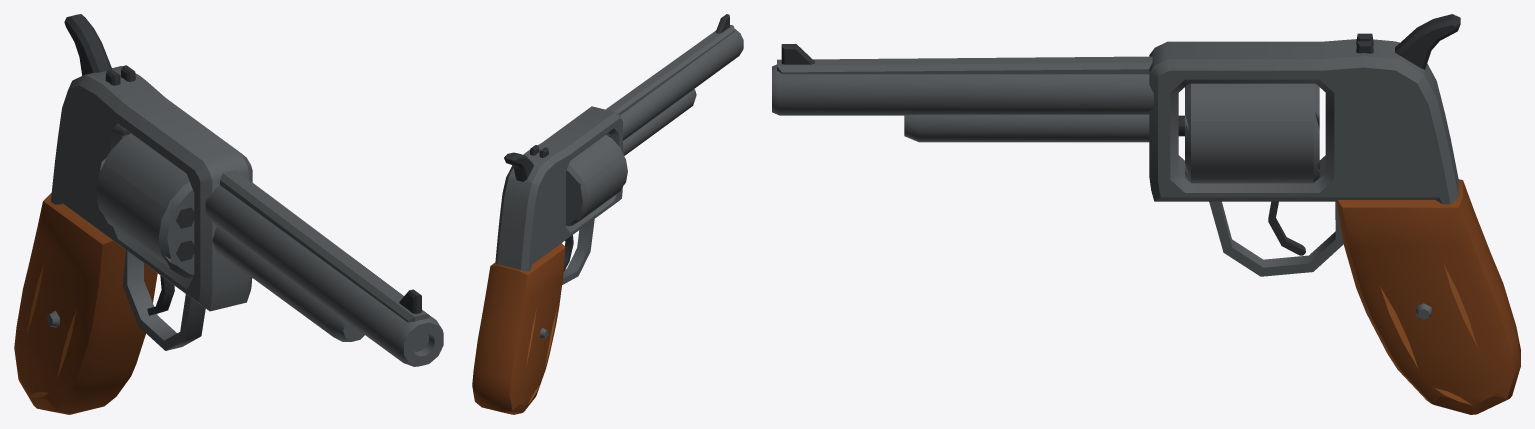
File: revolver.glb
3 renders of one model, left to right at view 1: azimuth 30°, elevation 25°; view 2: azimuth 150°, elevation 25°; view 3: azimuth 270°, elevation 25°, orthographic. The views are drawn at different scales.
Visible parts, largest first — view 1: Revolver; view 2: Revolver; view 3: Revolver.
Boxes of the visible parts, x1=… form: Revolver: x1=14, y1=14, x2=443, y2=414; Revolver: x1=472, y1=14, x2=743, y2=414; Revolver: x1=772, y1=14, x2=1520, y2=414.
Size of the model in its own units: 0.047 by 0.1754 by 0.3057.
